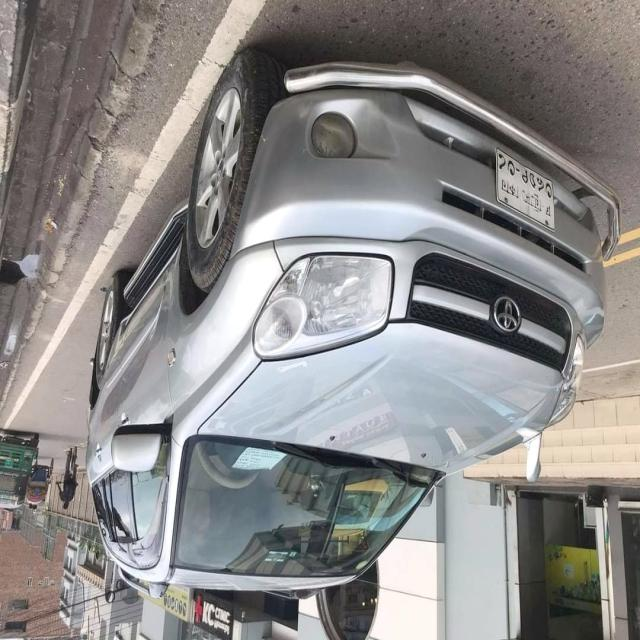silver: (85, 33, 610, 582)
